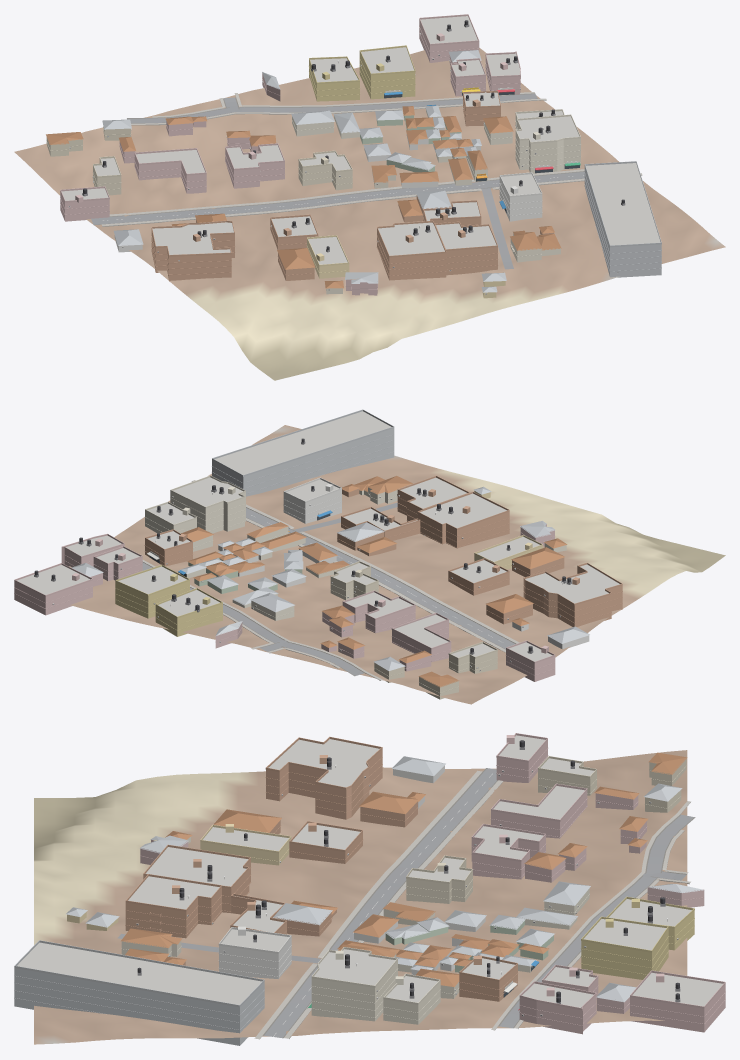
The picture shows the model from 3 angles, top to bottom: view 1: azimuth 30°, elevation 25°; view 2: azimuth 150°, elevation 25°; view 3: azimuth 270°, elevation 25°; orthographic projection. The views are drawn at different scales.
Visible parts, largest first — view 1: Terrain-col, Buildings-col, Details, Roads-col, Sidewalks-col; view 2: Buildings-col, Terrain-col, Details, Roads-col, Sidewalks-col; view 3: Buildings-col, Terrain-col, Details, Roads-col, Sidewalks-col.
Part boxes in pixels (left/top/right/bottom): Terrain-col: left=14, top=48, right=725, bottom=380; Buildings-col: left=46, top=16, right=661, bottom=298; Details: left=46, top=14, right=661, bottom=294; Roads-col: left=91, top=93, right=584, bottom=269; Sidewalks-col: left=101, top=92, right=642, bottom=226; Buildings-col: left=14, top=411, right=622, bottom=699; Terrain-col: left=69, top=425, right=725, bottom=704; Details: left=14, top=409, right=622, bottom=693; Roads-col: left=142, top=502, right=515, bottom=676; Sidewalks-col: left=142, top=480, right=519, bottom=680; Buildings-col: left=14, top=735, right=725, bottom=1045; Terrain-col: left=34, top=750, right=687, bottom=1044; Details: left=14, top=733, right=725, bottom=1037; Roads-col: left=117, top=768, right=695, bottom=1038; Sidewalks-col: left=254, top=770, right=690, bottom=1039.
Size of the model in its own units: 272 by 36.15 by 279.
